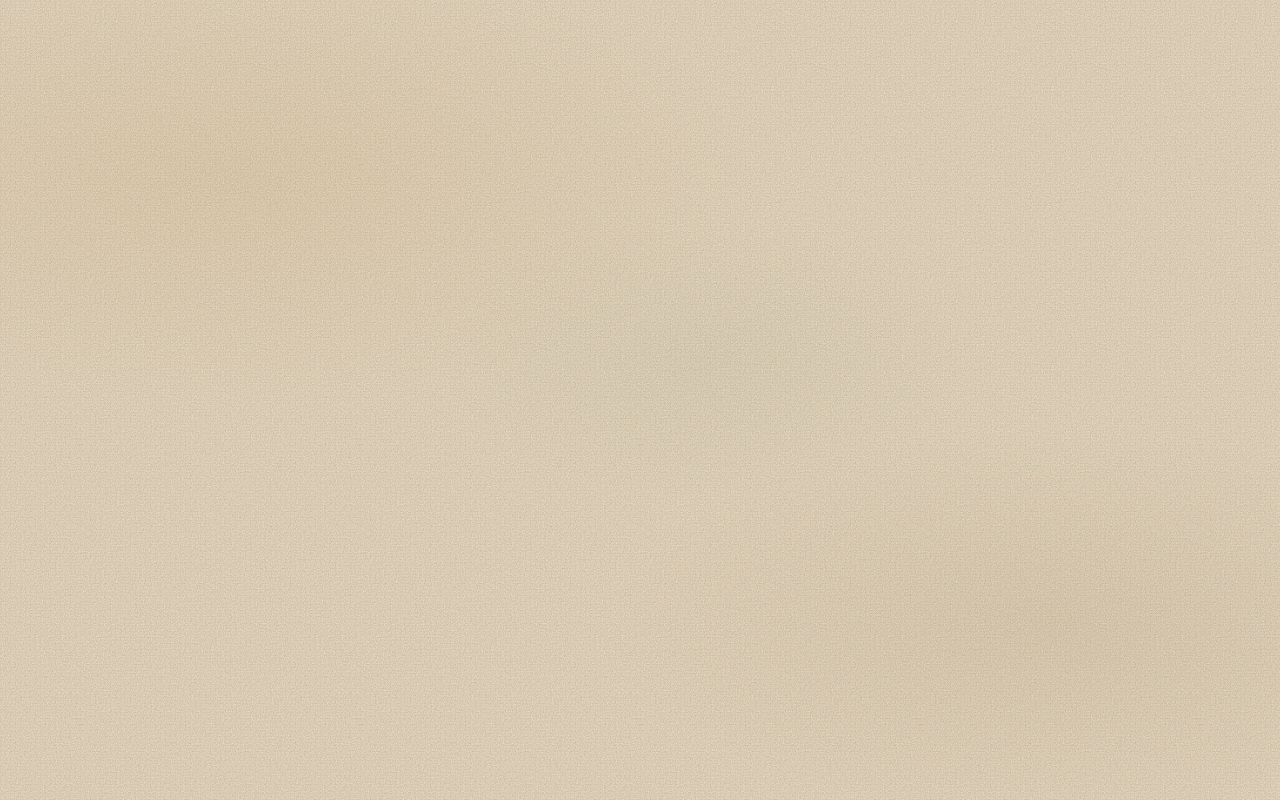
Test: CommandPalette › search filtering › filters navigation items by label
Press k
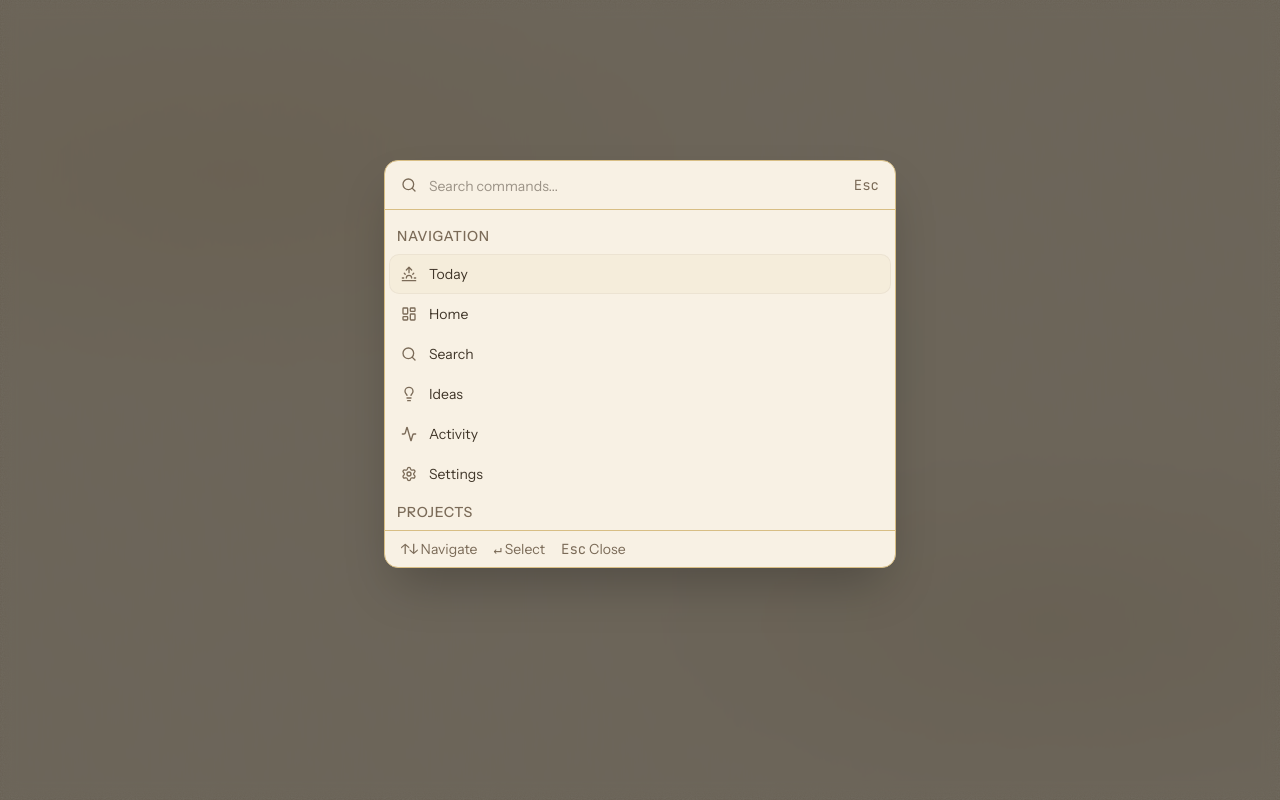
In the dropdown: (635, 185) [429,173,842,197], type "settings"
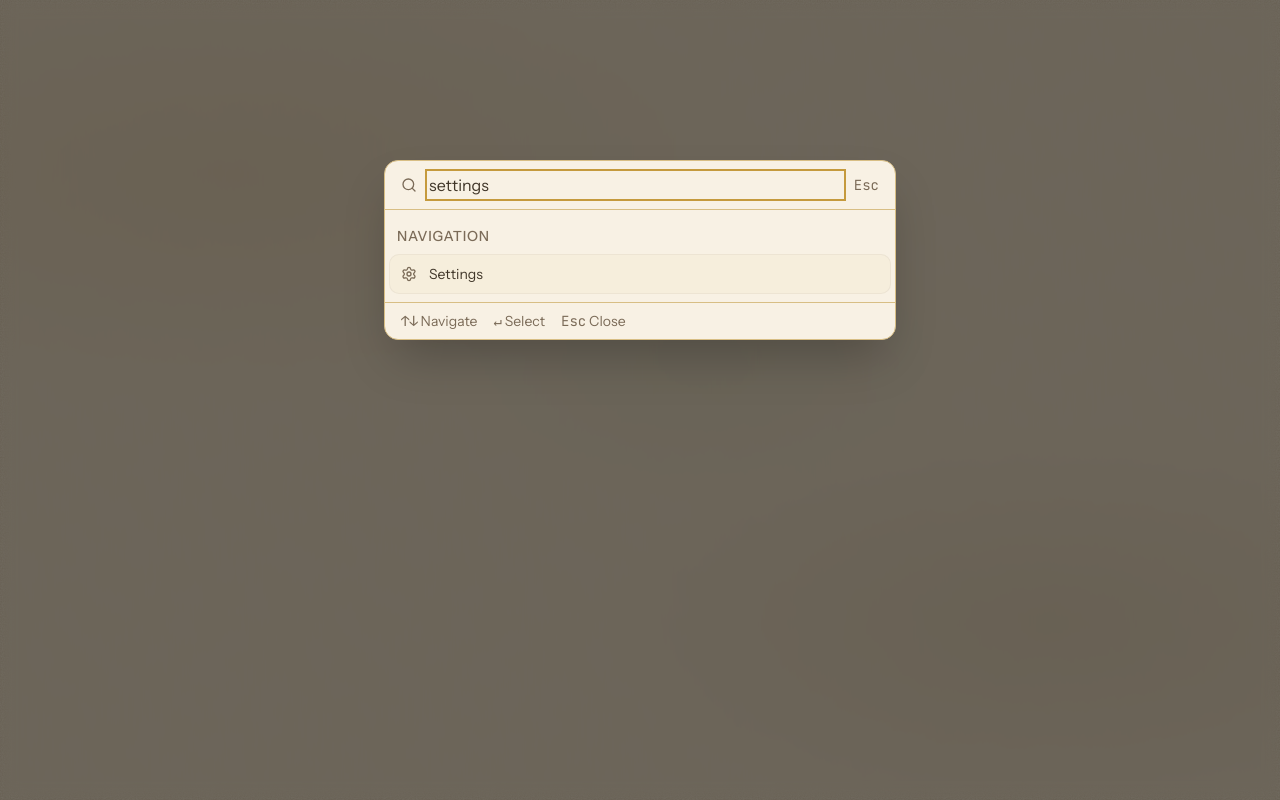
expect the text "Settings" is shown: met, box [429,265,483,283]
expect the option "Home" is gone: met
expect the option "Ideas" is gone: met
